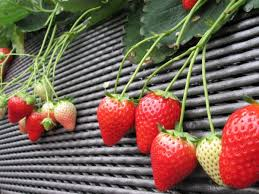ripe: (219, 98, 258, 188), (148, 128, 196, 192), (135, 89, 179, 153), (94, 91, 136, 149), (6, 89, 33, 121), (26, 109, 45, 143)
unripe: (196, 134, 235, 189), (53, 96, 77, 131), (33, 77, 55, 101), (15, 111, 31, 134), (41, 101, 54, 126)
